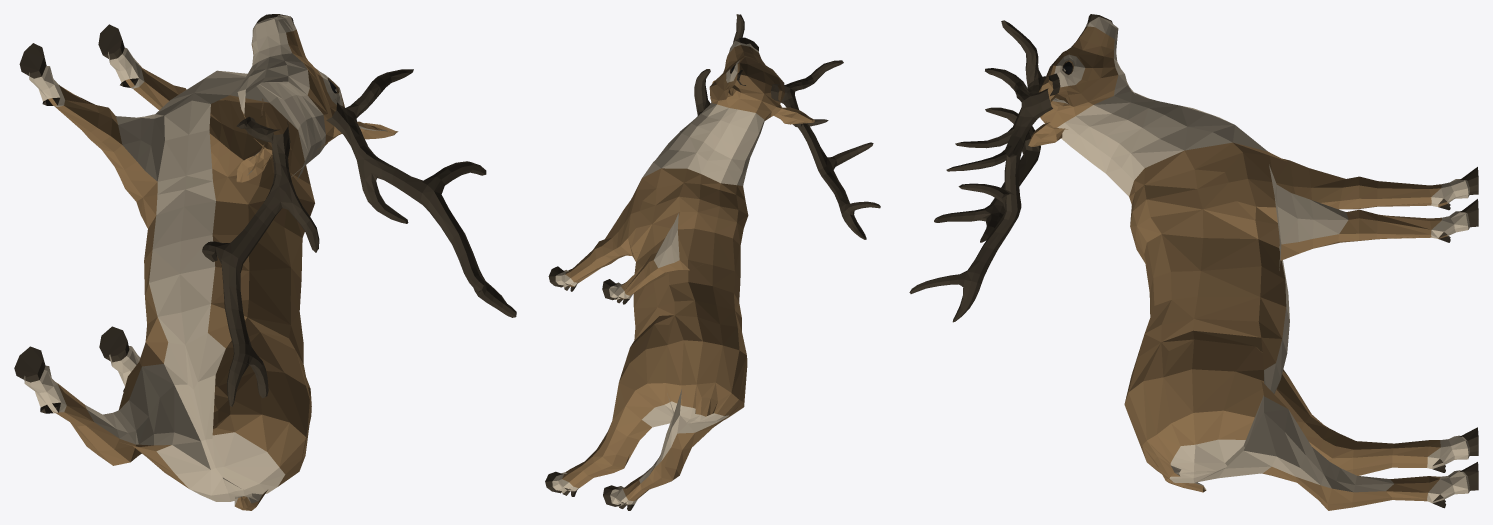
The model's file is stag-idle-1.glb.
3 views of the same model, side by side, from view 1: azimuth 30°, elevation 25°; view 2: azimuth 150°, elevation 25°; view 3: azimuth 270°, elevation 25° (orthographic). The views are drawn at different scales.
Size of the model in its own units: 0.8978 by 1.65 by 1.82.
